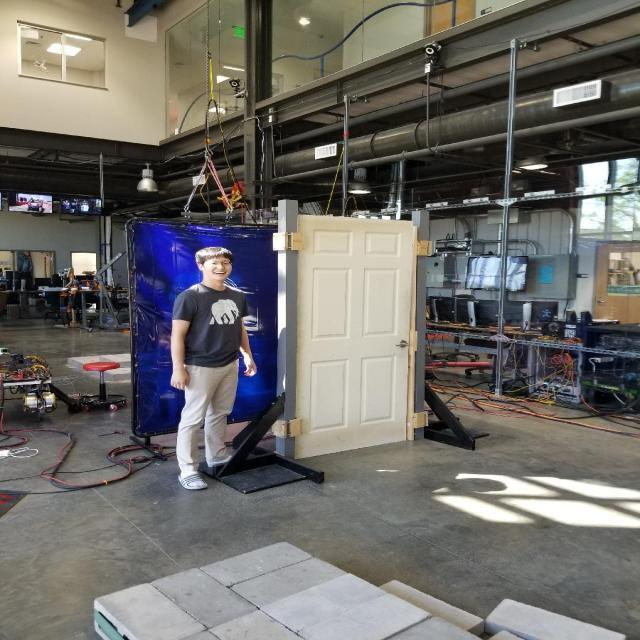door: (290, 212, 414, 459), (396, 336, 412, 349)
